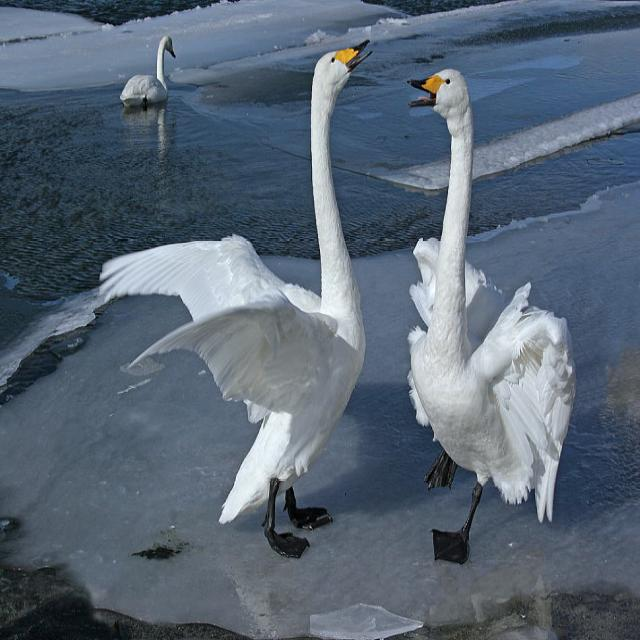bird: (84, 32, 374, 556), (398, 67, 578, 563), (115, 38, 178, 114)
